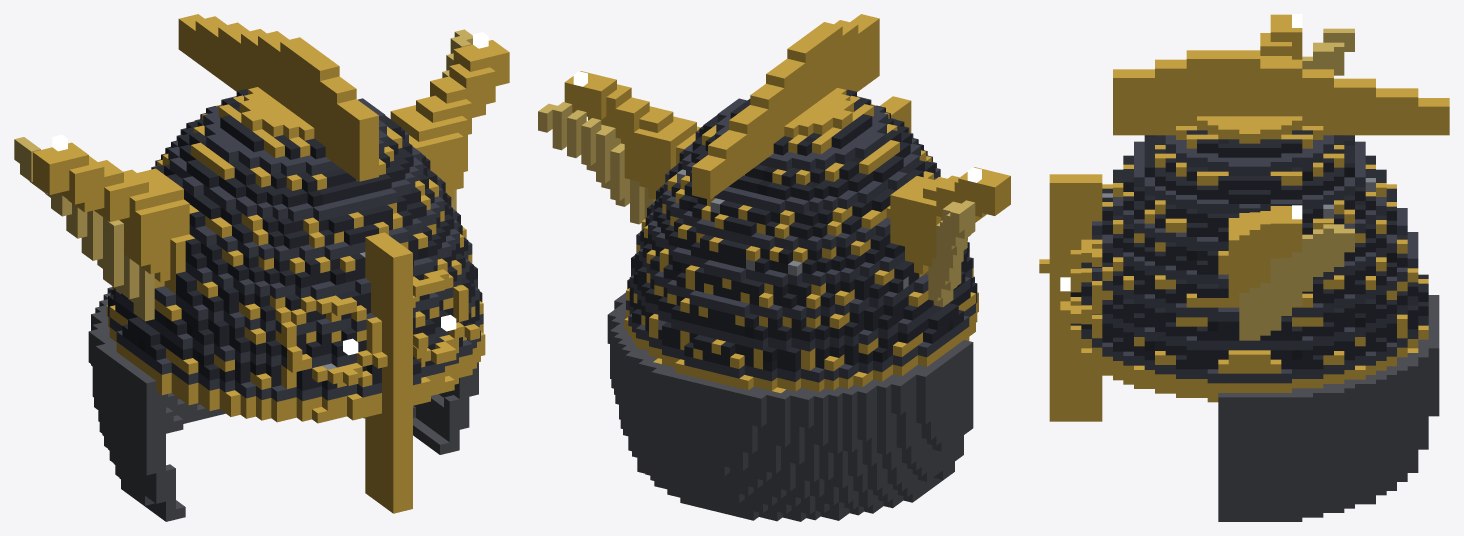
The model's file is scale_legendary_helmet.glb.
3 renders of one model, left to right at view 1: azimuth 30°, elevation 25°; view 2: azimuth 150°, elevation 25°; view 3: azimuth 270°, elevation 25°, orthographic. The views are drawn at different scales.
Parts seen in each view (by area): view 1: scale_legendary_helmet; view 2: scale_legendary_helmet; view 3: scale_legendary_helmet.
Part boxes in pixels (bbox=[...]): scale_legendary_helmet: bbox=[14, 14, 509, 521]; scale_legendary_helmet: bbox=[538, 14, 1010, 521]; scale_legendary_helmet: bbox=[1039, 14, 1449, 521].
Size of the model in its own units: 0.564 by 0.504 by 0.468.
